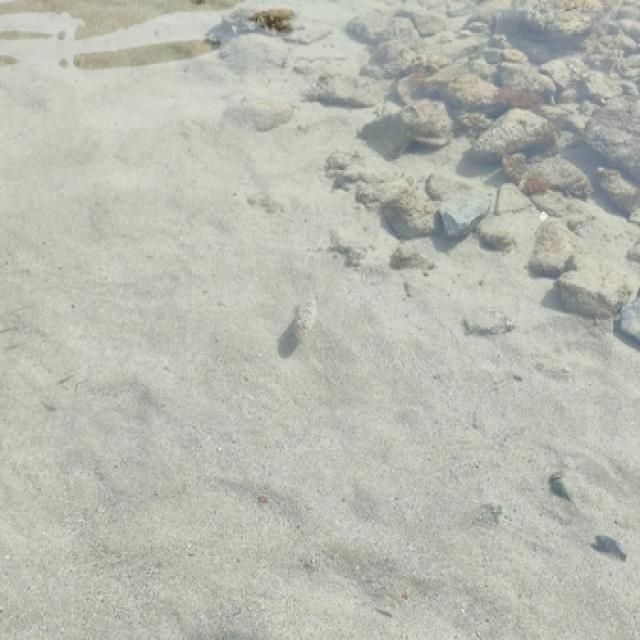Balik: (294, 296, 316, 340)
